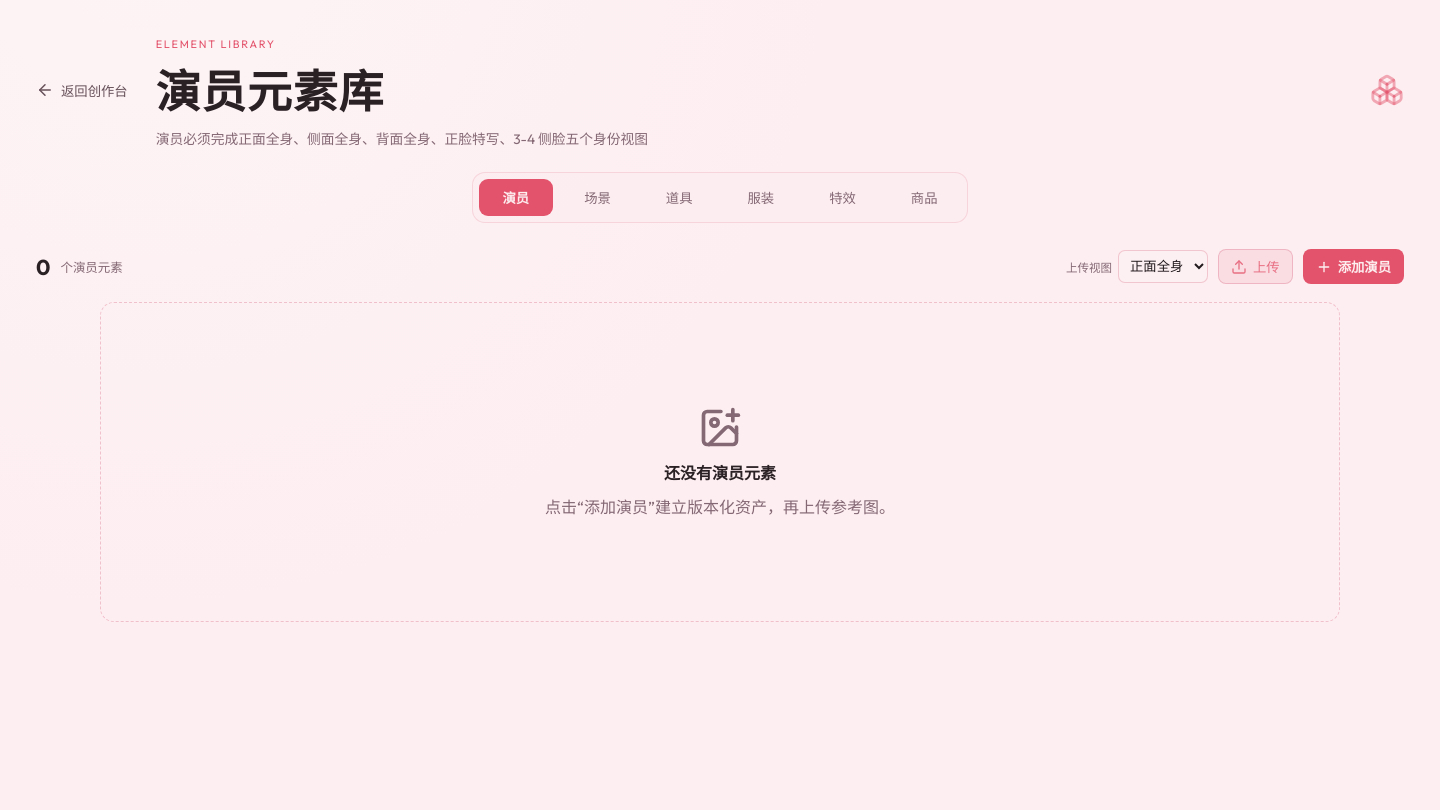
Test: ElementLibraryPage › provides all six concrete pages and keeps costume assets image-only
The image size is (1440, 810).
expect the heading "演员元素库" is shown: met, box [156,63,384,120]
expect the button "添加演员" is shown: met, box [1303,249,1404,284]
Step 1. Click the tab "场景" → (598,198), box [560,179,635,216]
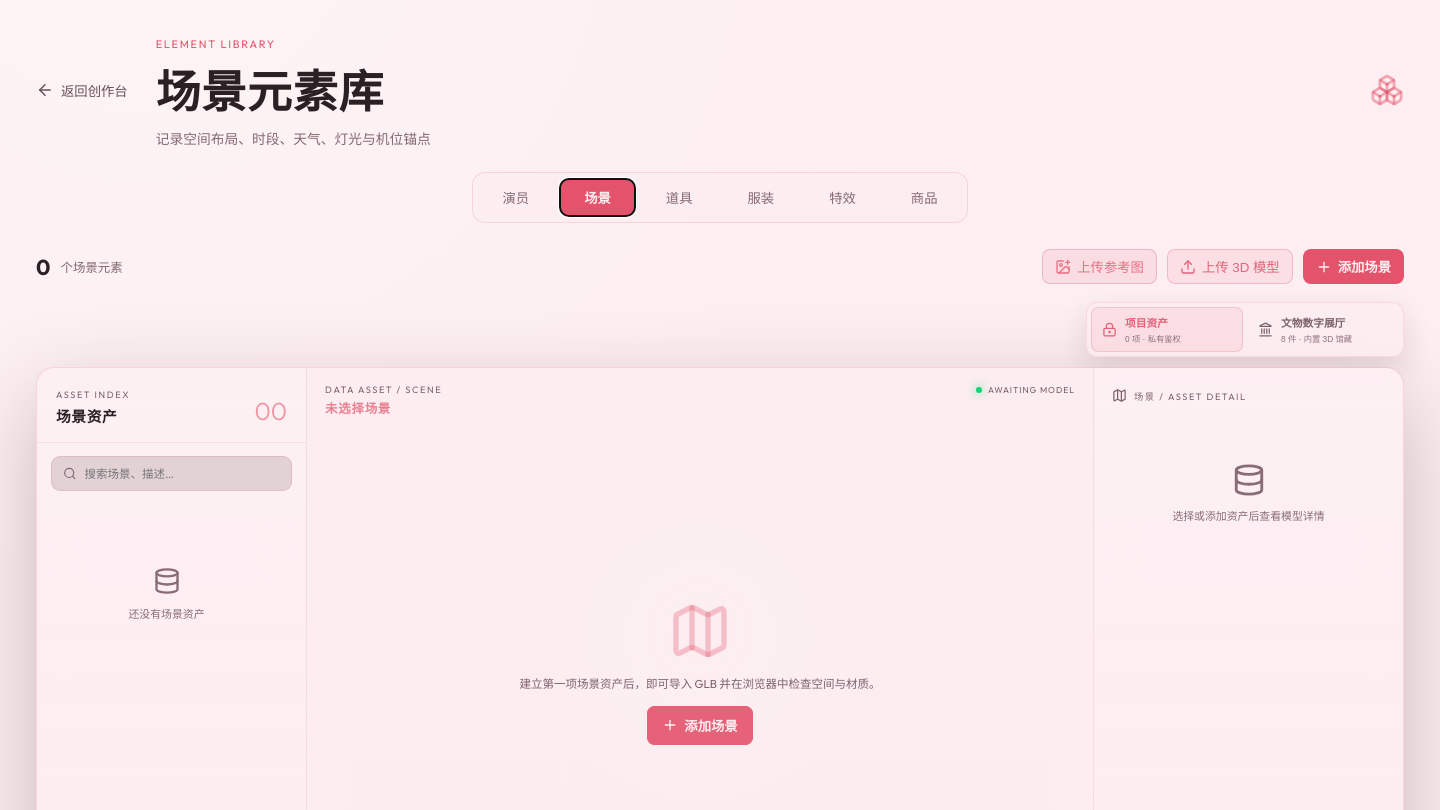
expect the heading "场景元素库" is shown: met, box [156,63,384,120]
expect the 1st button "添加场景" is shown: met, box [1303,249,1404,284]
Step 2. Click the tab "服装" → (761,198), box [724,179,798,216]
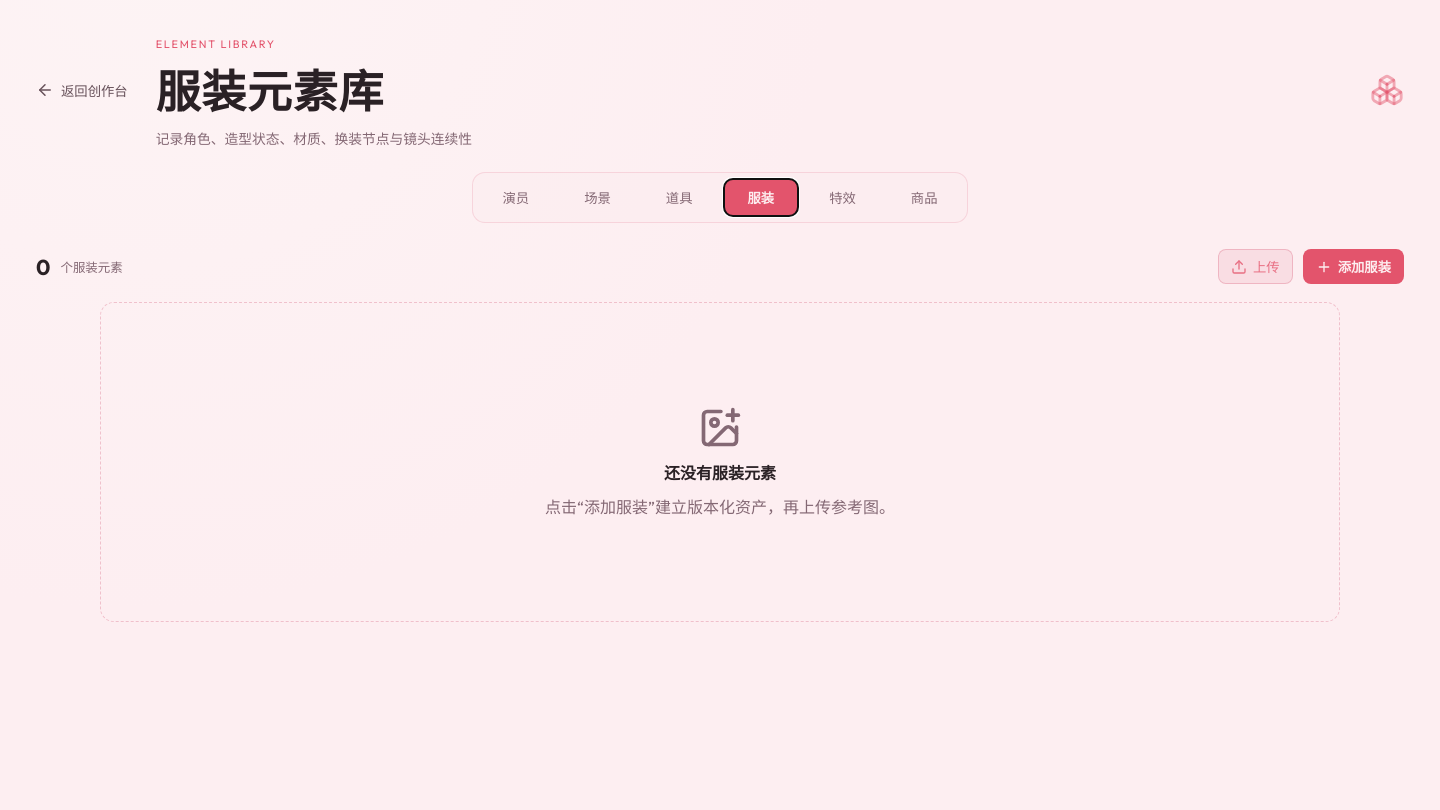
expect the heading "服装元素库" is shown: met, box [156,63,384,120]
expect the button "添加服装" is shown: met, box [1303,249,1404,284]
expect the button "上传 3D 模型" is gone: met
